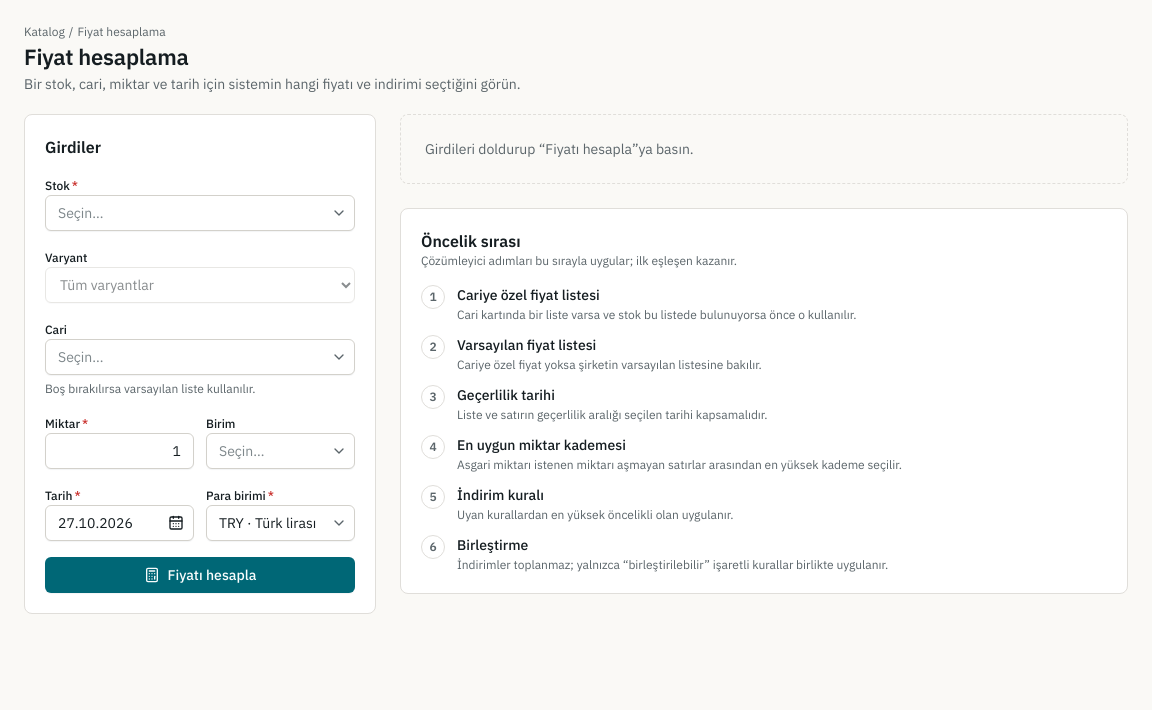
Test: PricingPlaygroundPage › prefers the party price list
Type "Cıvata" into the dropdown labelled "Stok*".
click(200, 213); type("Cıvata")  # box [45,195,355,231]
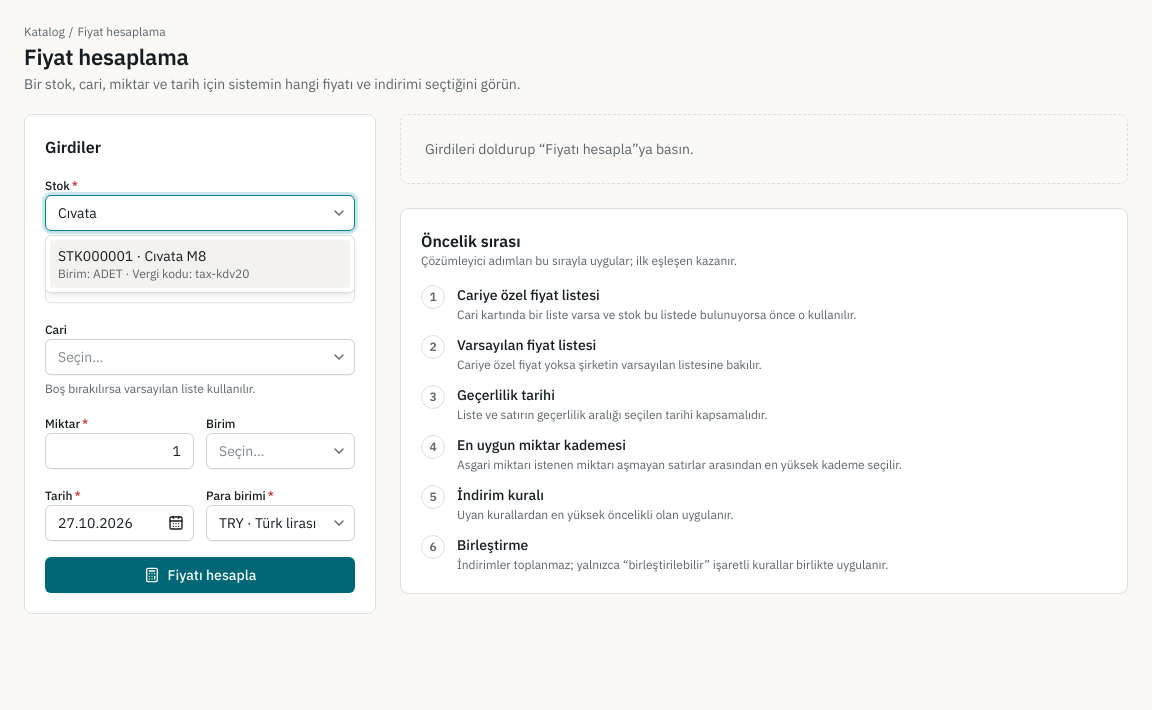
Click the option "STK000001 · Cıvata M8 Birim: ADET · Vergi kodu: tax-kdv20".
click(200, 264)  # box [50,240,350,288]
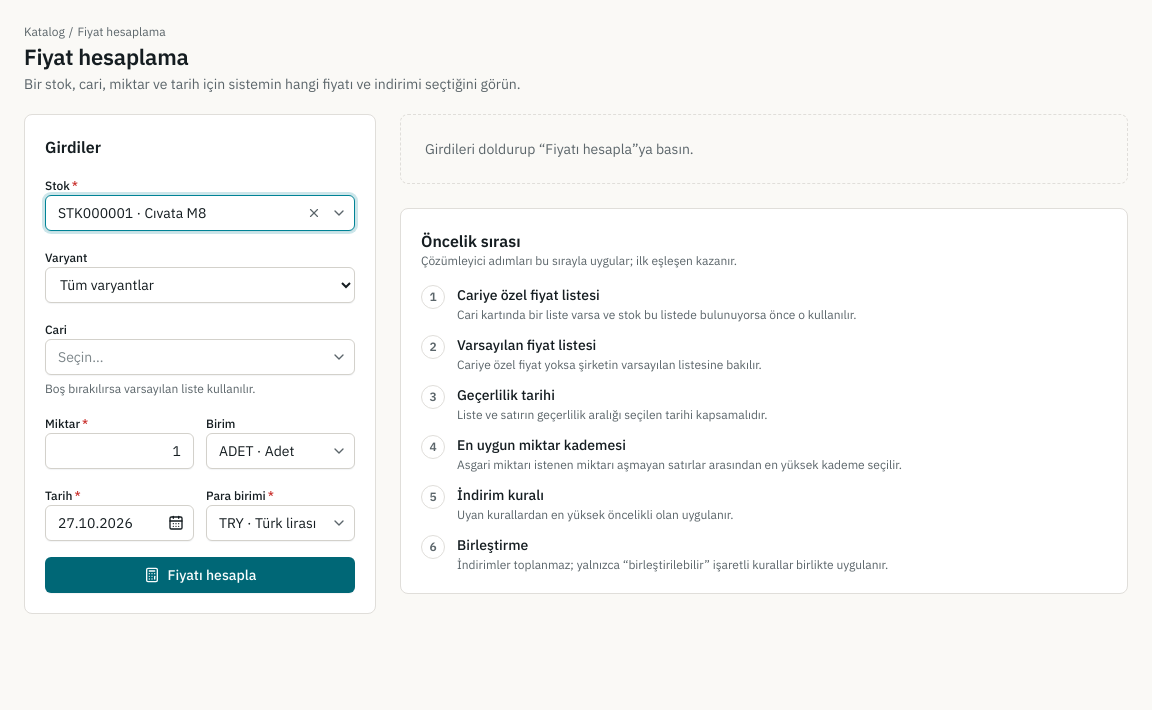
Type "Ege" into the dropdown labelled "Cari".
click(200, 357); type("Ege")  # box [45,339,355,375]
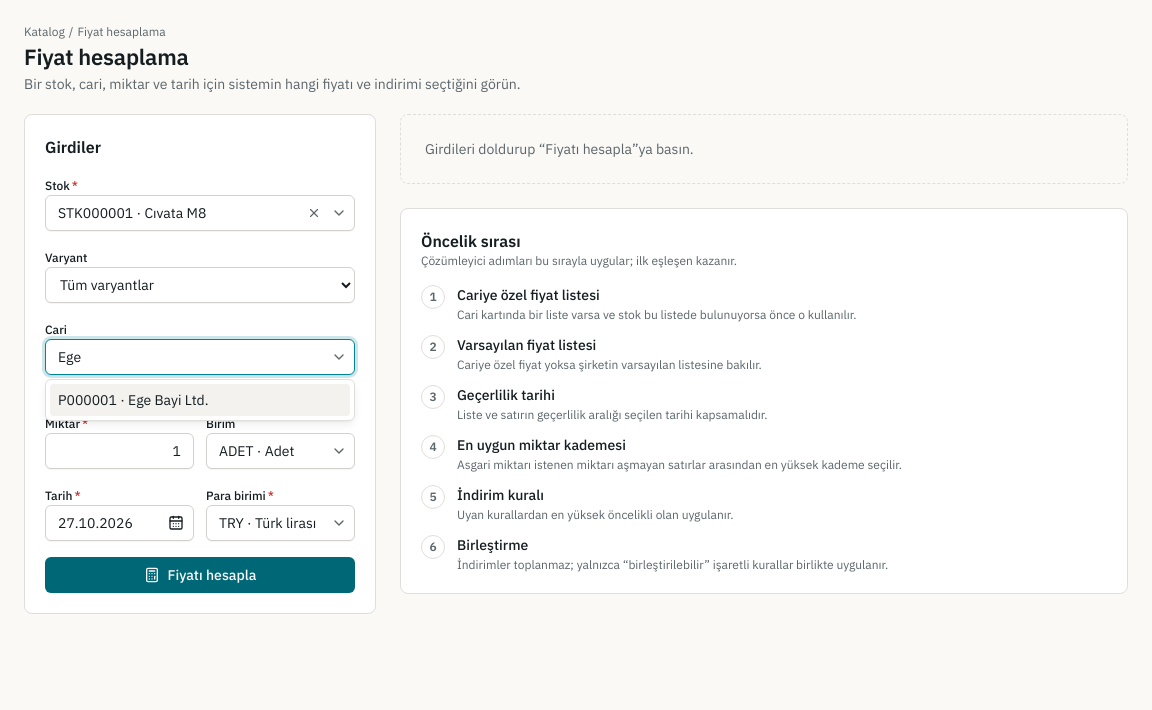
Click the option "P000001 · Ege Bayi Ltd.".
click(200, 400)  # box [50,384,350,416]
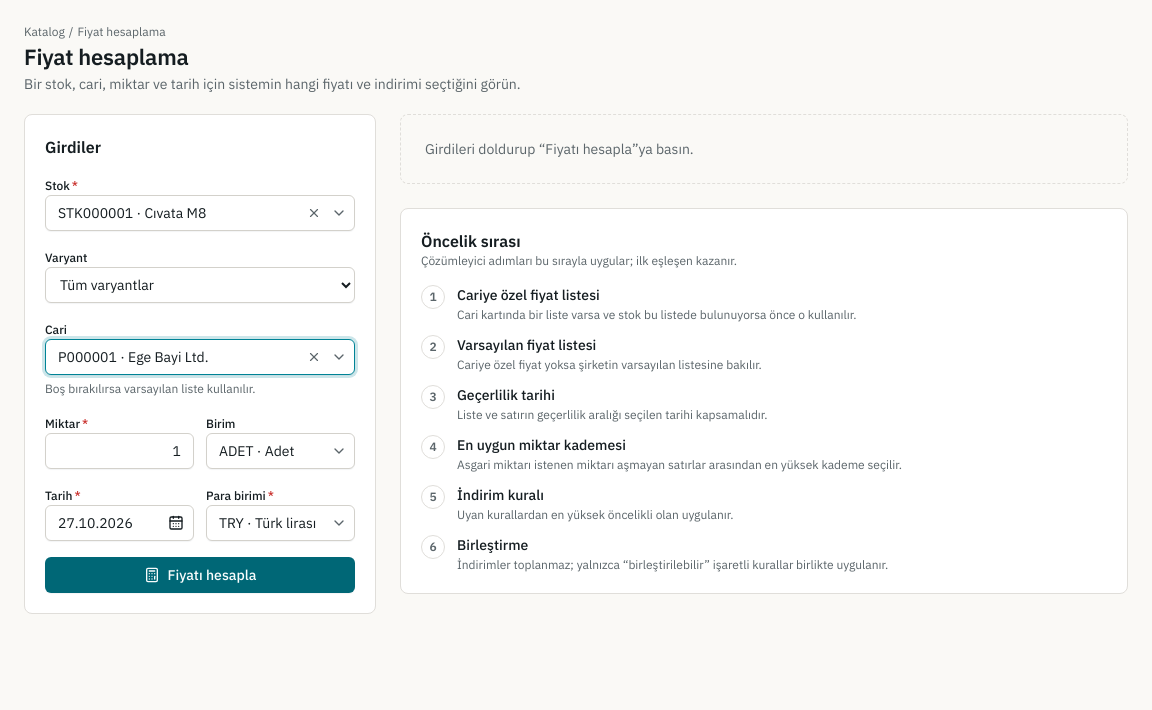
Click the button "Fiyatı hesapla".
click(200, 575)  # box [45,557,355,593]
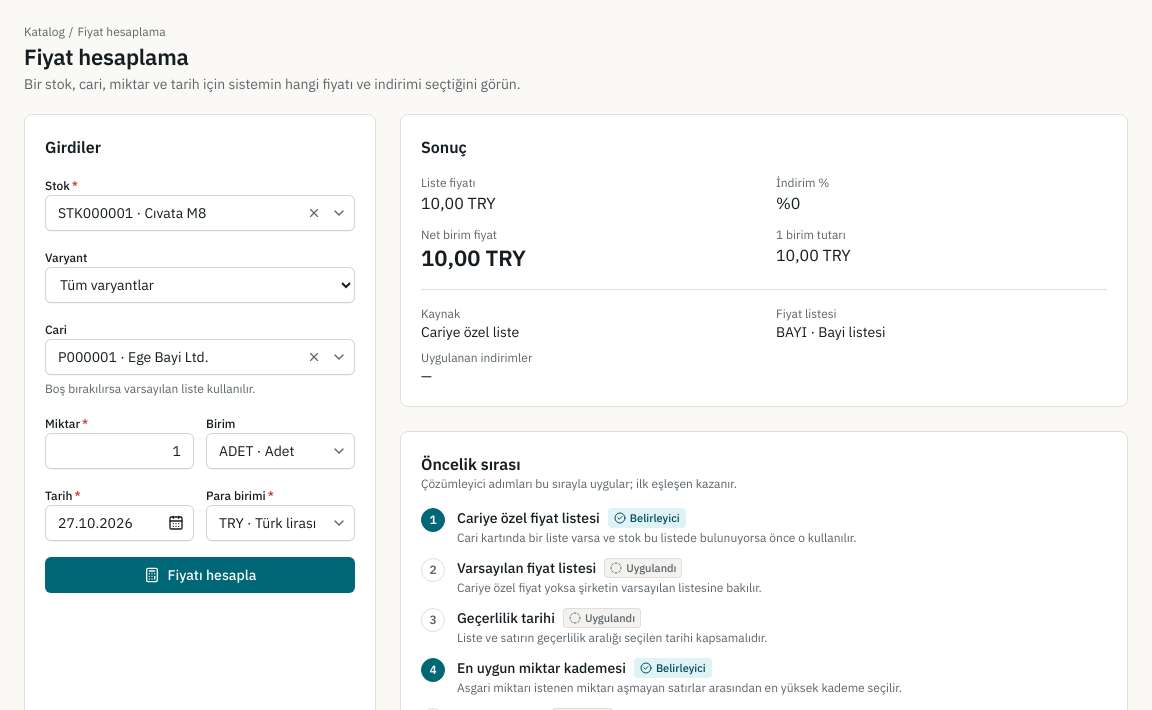
Check: the text "Cariye özel liste" is shown, box [421,323,519,341]
Check: the text "10,00 TRY" is shown 3 times, box [421,193,496,213]; [421,243,526,272]; [776,245,851,265]
